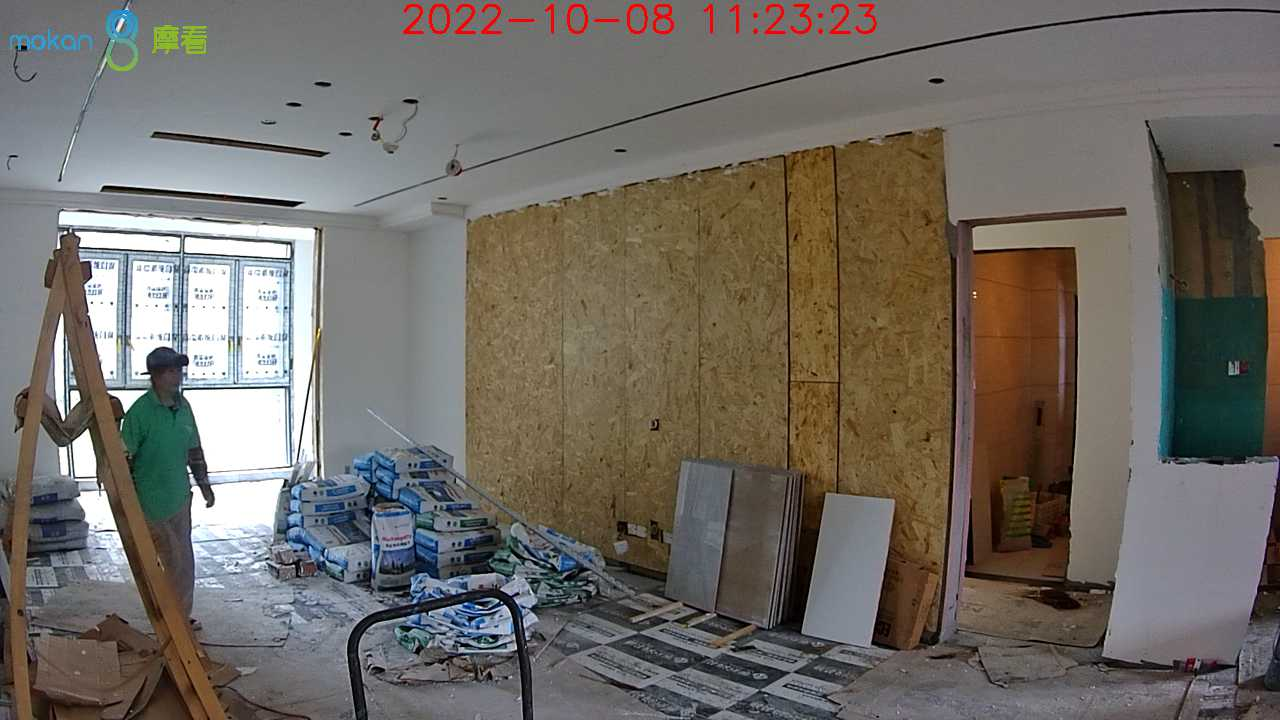people: (114, 346, 216, 650)
window: (54, 210, 296, 487)
